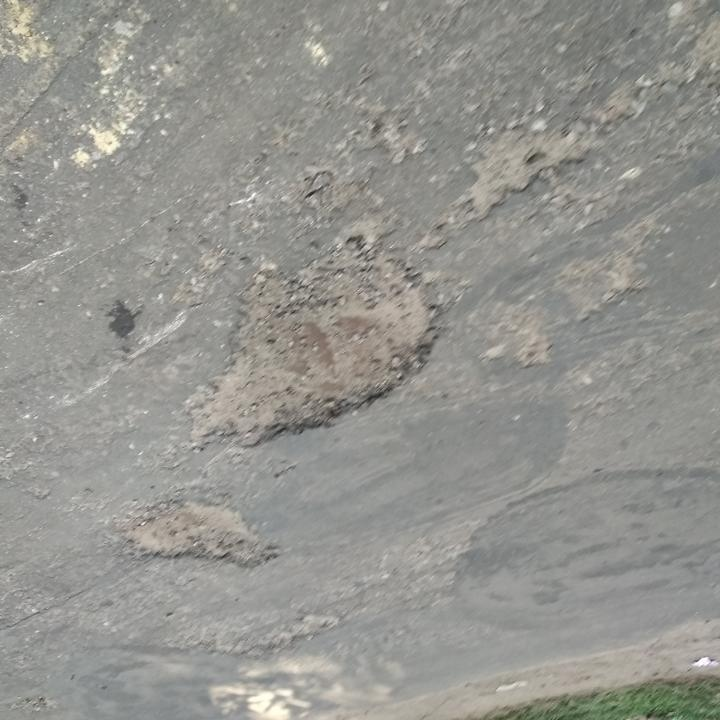pothole: (181, 239, 437, 455), (115, 500, 275, 573)
